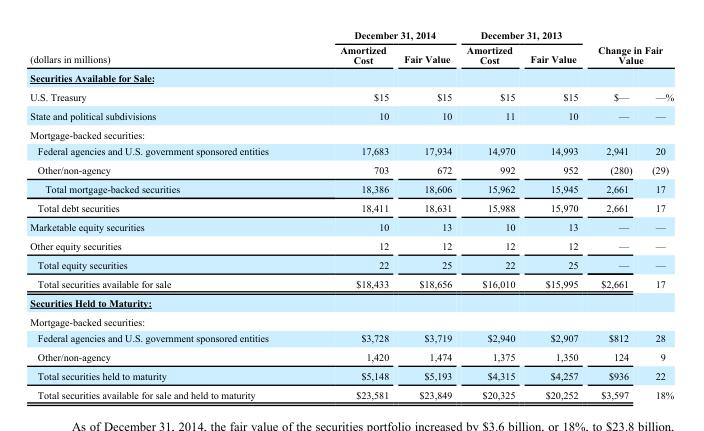table: (29, 29, 673, 400)
table column: (29, 29, 303, 400), (303, 29, 395, 400), (521, 29, 587, 400), (395, 29, 458, 400), (458, 29, 521, 400), (587, 29, 641, 400), (641, 29, 673, 400)
table column header: (29, 29, 673, 68)
table projected row header: (29, 292, 673, 311), (29, 68, 673, 86), (29, 124, 673, 142), (29, 311, 673, 329)
table row: (29, 42, 673, 68), (29, 86, 673, 105), (29, 105, 673, 124), (29, 160, 673, 179), (29, 179, 673, 198), (29, 198, 673, 217), (29, 235, 673, 254), (29, 254, 673, 273), (29, 273, 673, 292), (29, 292, 673, 311), (29, 347, 673, 366), (29, 68, 673, 86), (29, 124, 673, 142), (29, 142, 673, 160), (29, 217, 673, 235), (29, 311, 673, 329), (29, 329, 673, 347), (29, 366, 673, 384), (29, 384, 673, 400), (29, 29, 673, 42)
table spanning cell: (29, 29, 303, 68), (587, 29, 673, 68), (303, 29, 458, 42), (458, 29, 587, 42)
